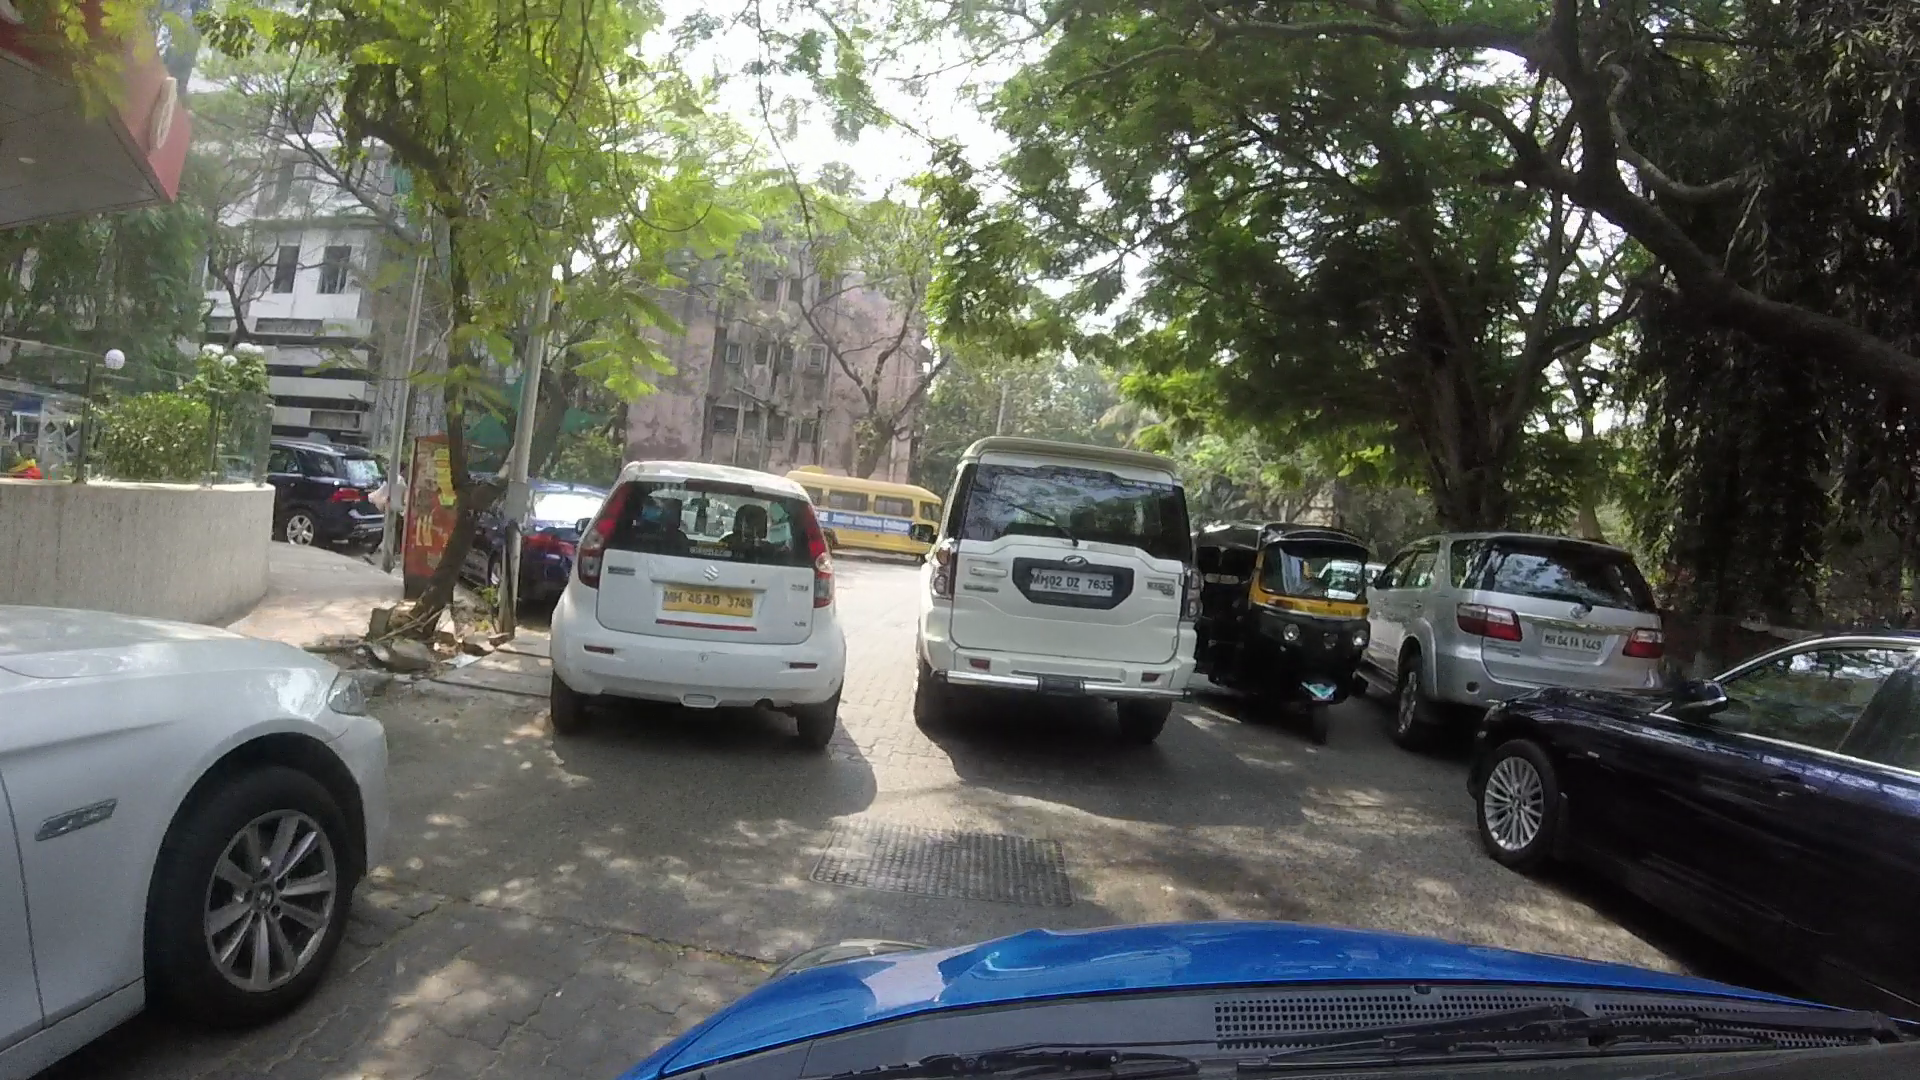car: (16, 597, 378, 1058), (1449, 640, 1913, 989), (541, 460, 847, 733), (934, 433, 1196, 748), (1378, 545, 1652, 733), (491, 483, 603, 618)
rickshaw: (1213, 520, 1364, 736)
